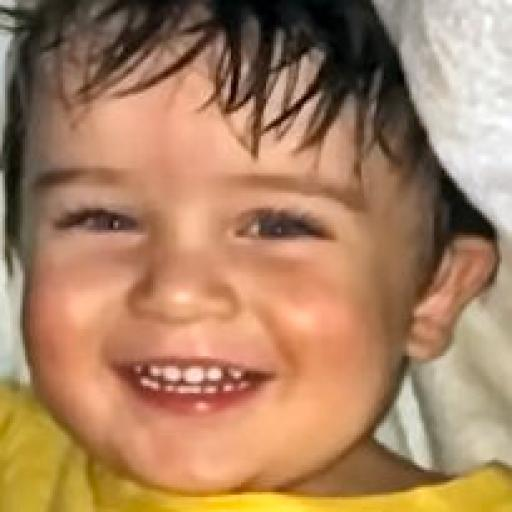Autism: (5, 9, 512, 507)
